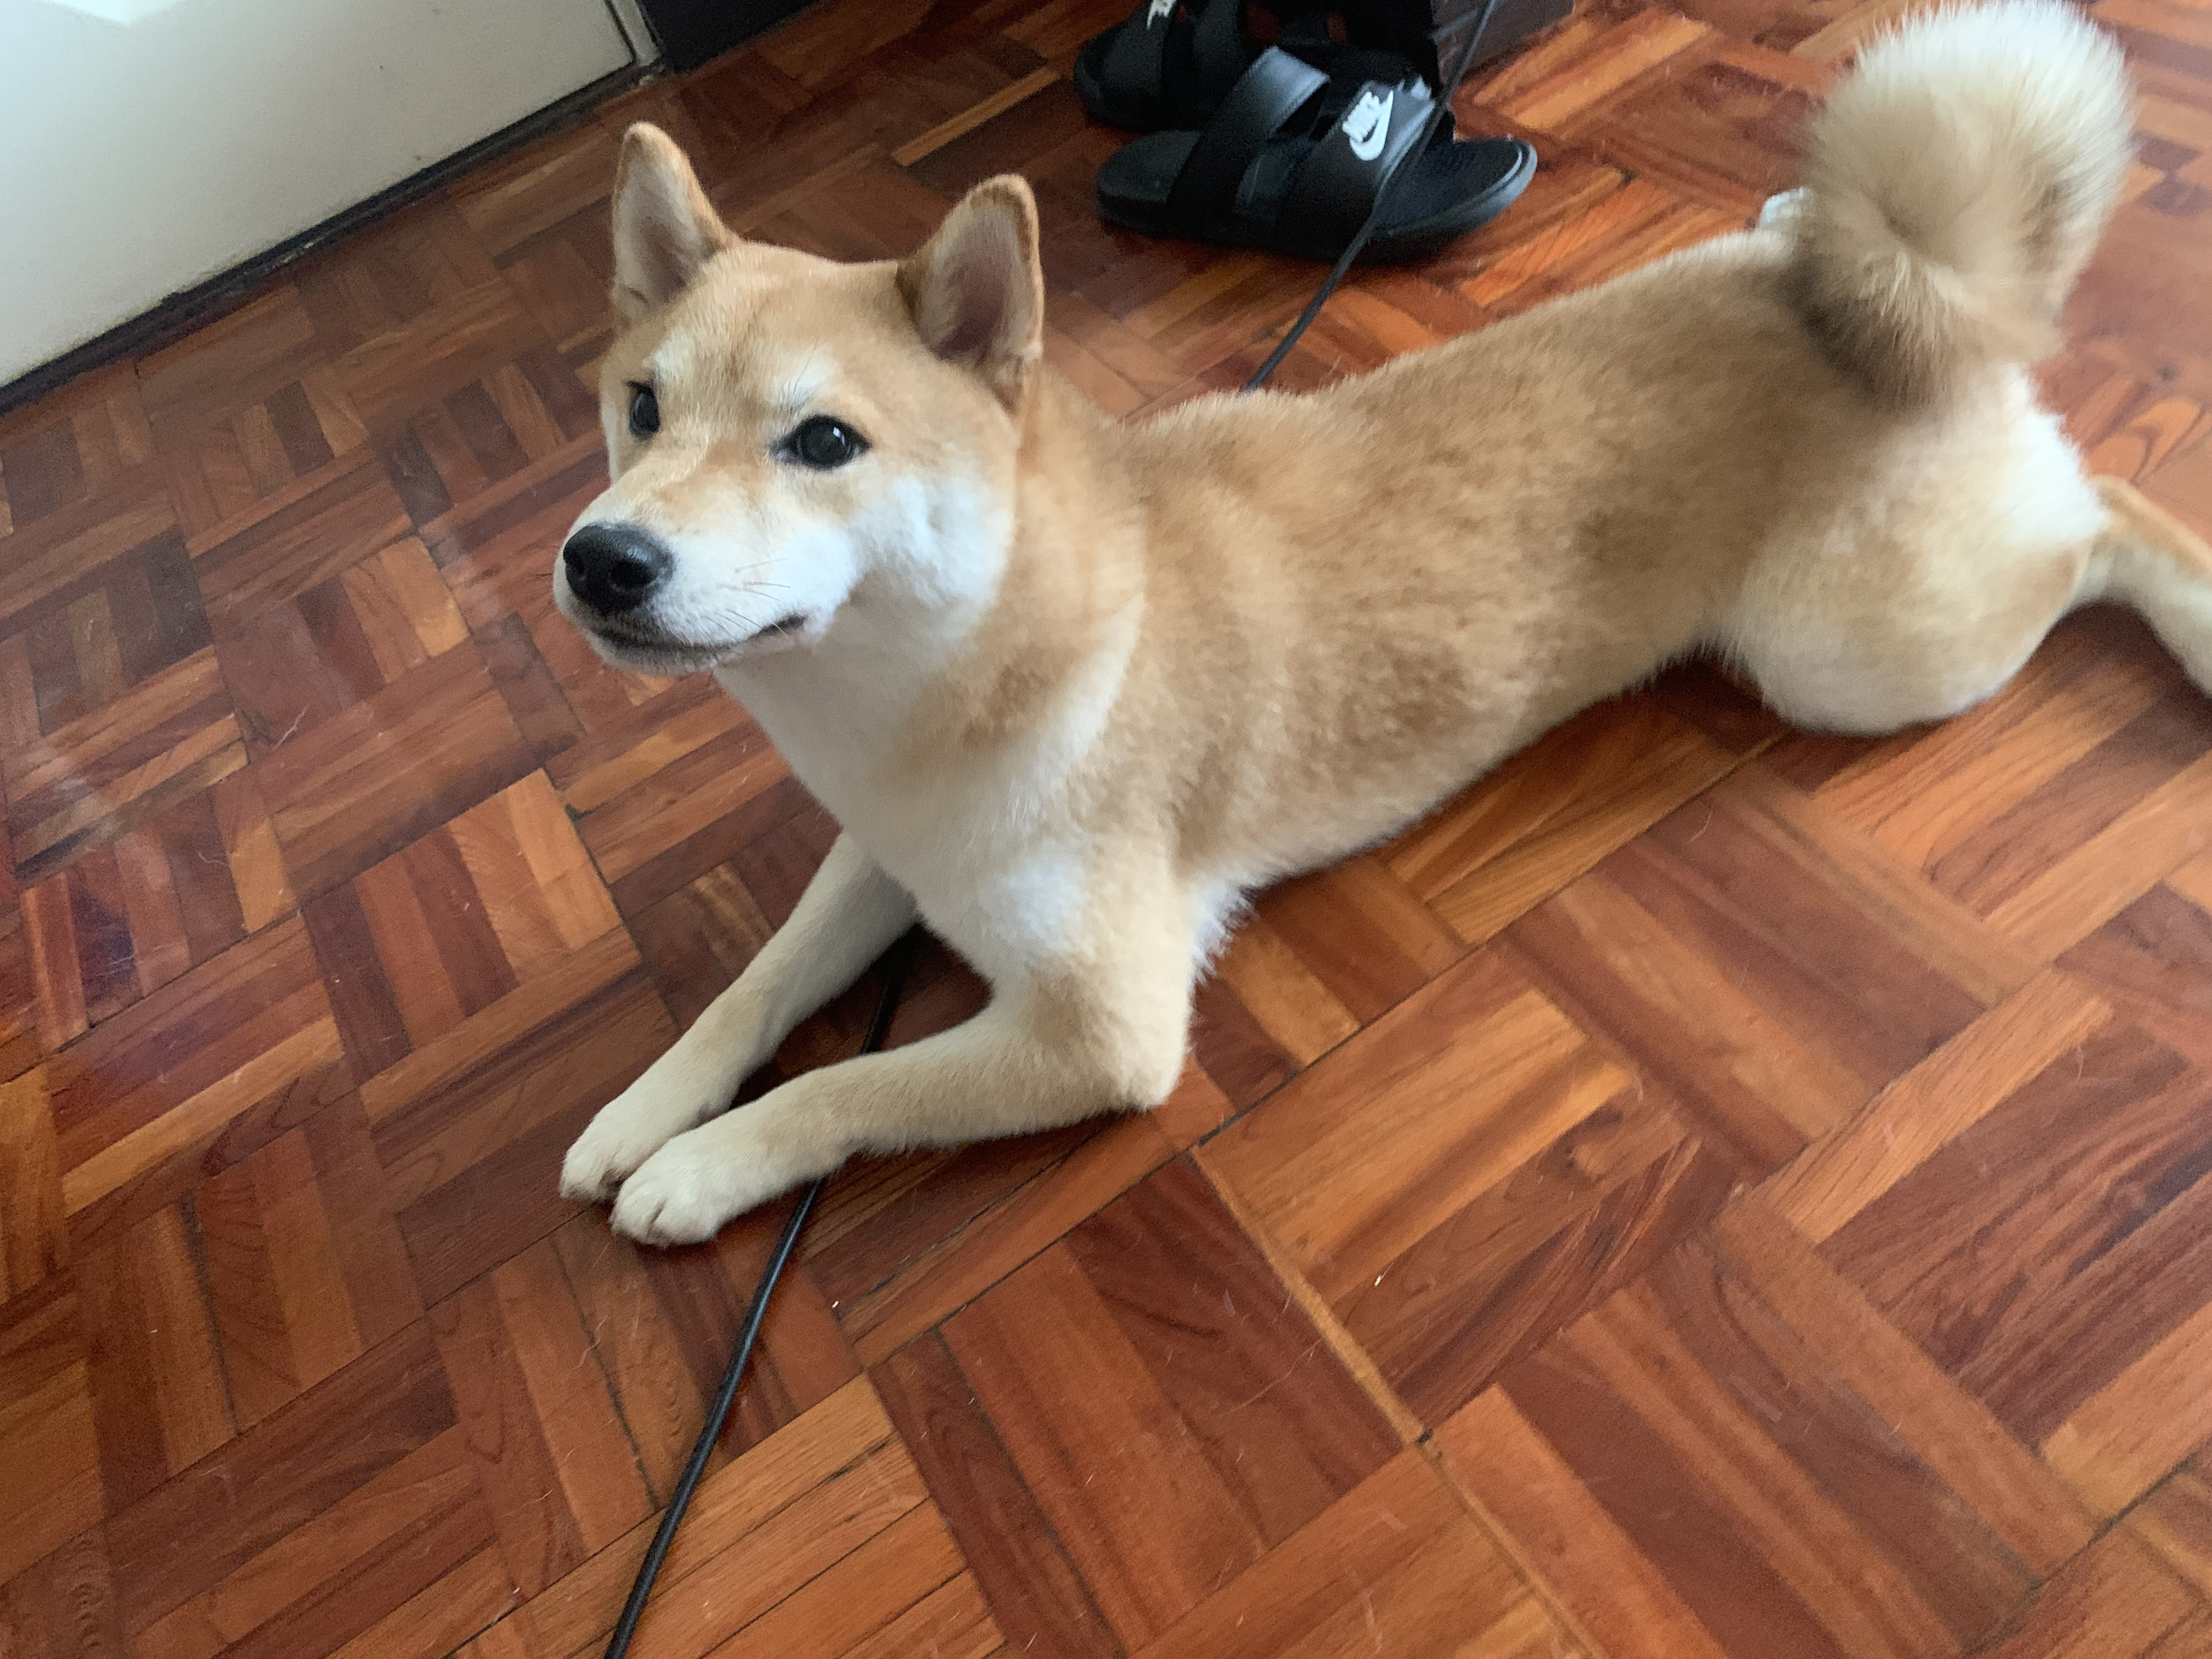Get down: (495, 82, 2212, 1272)
